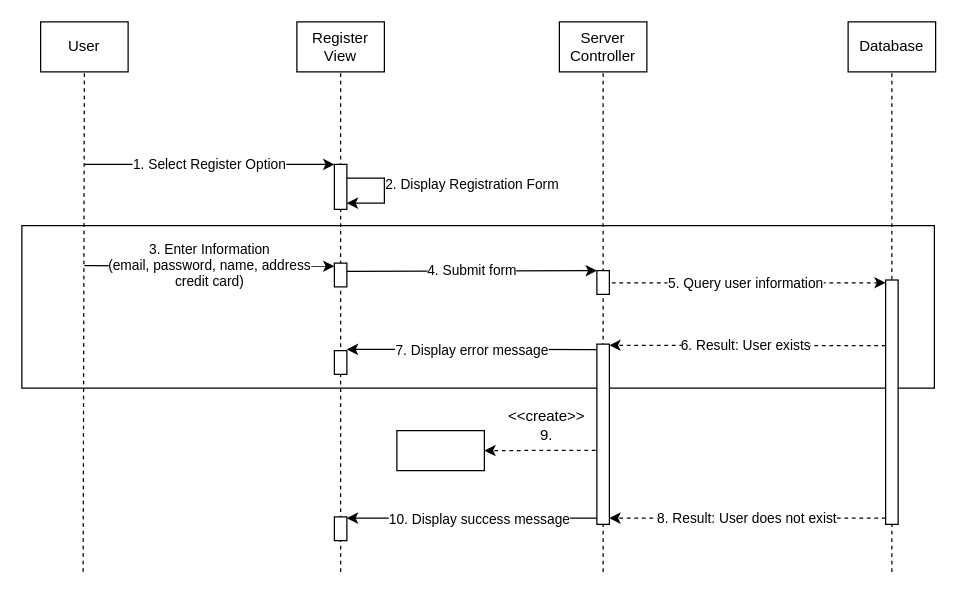
This 958x595 diagram has some shape labels left out. Each missing label, with the centre of its shape:
"LOOP" goes at point 477,306.
"Registered User" goes at point 440,450.
